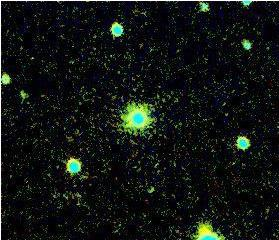star: (134, 174, 164, 204)
